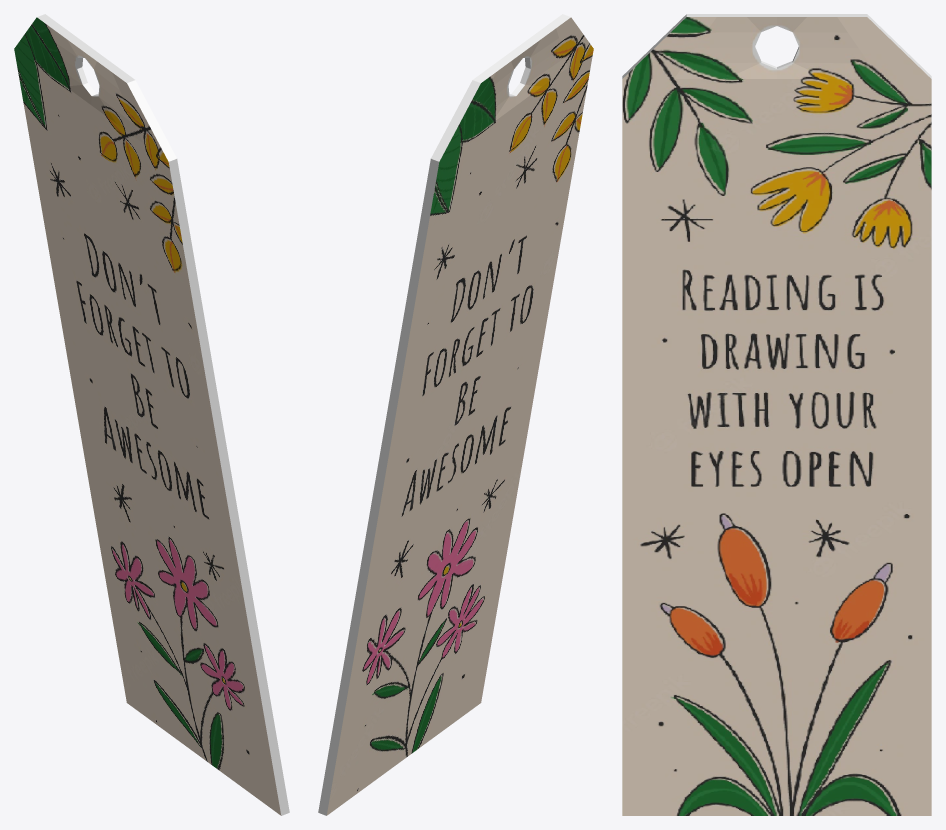
3 views of the same model, side by side, from view 1: azimuth 30°, elevation 25°; view 2: azimuth 150°, elevation 25°; view 3: azimuth 270°, elevation 25° (orthographic).
Parts seen in each view (by area): view 1: Plane; view 2: Plane; view 3: Plane.
Boxes of the visible parts, x1=… form: Plane: x1=14, y1=14, x2=289, y2=815; Plane: x1=318, y1=14, x2=593, y2=815; Plane: x1=622, y1=14, x2=931, y2=815.
Size of the model in its own units: 0.2736 by 1.48 by 0.5601.
Materials: 1 (1 with a texture image).
